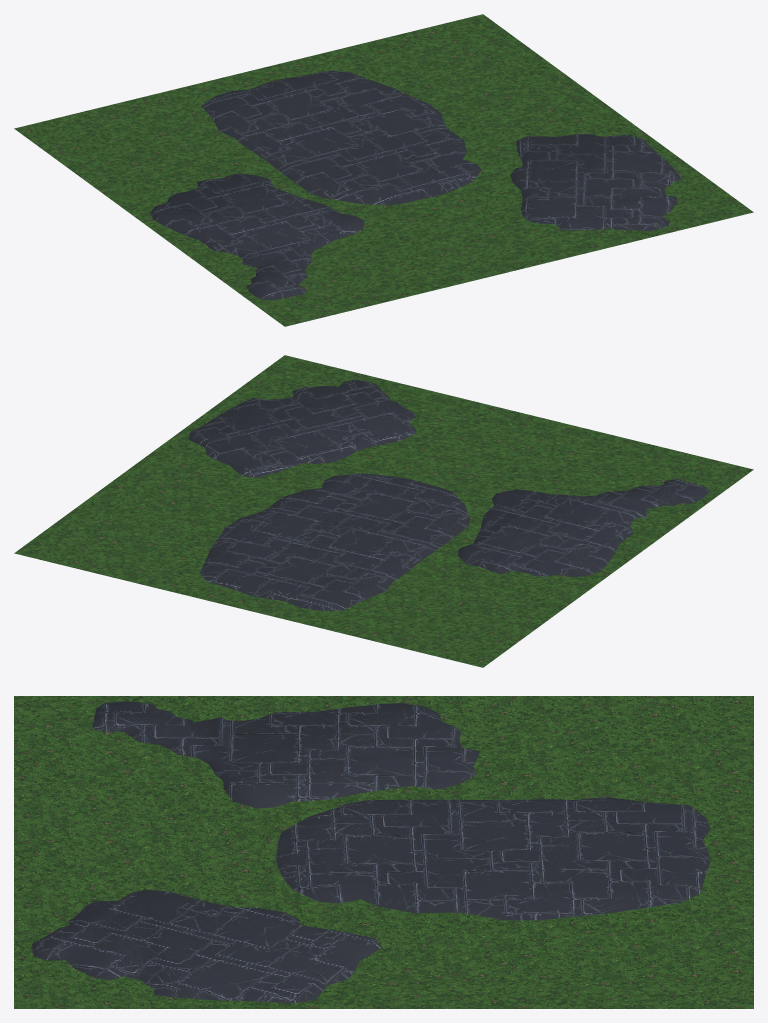
Rendered from TerrainFloor_Art.fbx.
3 views of the same model, one above another, from view 1: azimuth 30°, elevation 25°; view 2: azimuth 150°, elevation 25°; view 3: azimuth 270°, elevation 25° (orthographic). The views are drawn at different scales.
Visible parts, largest first — view 1: TerrainFloor_Art; view 2: TerrainFloor_Art; view 3: TerrainFloor_Art.
Boxes of the visible parts, left/top/right/bottom form: TerrainFloor_Art: left=14, top=14, right=753, bottom=326; TerrainFloor_Art: left=14, top=355, right=753, bottom=667; TerrainFloor_Art: left=14, top=696, right=753, bottom=1008.
Bounding box in the file's own units: 81.19 × 0.5534 × 81.19.
